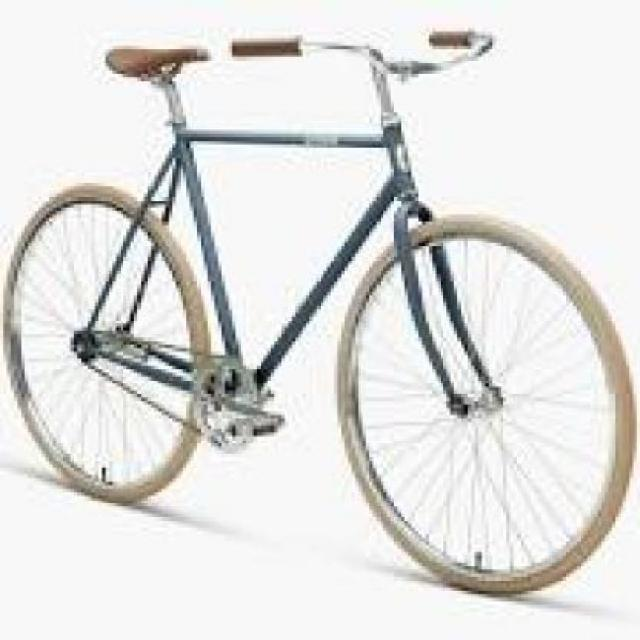bicycle: (2, 24, 640, 599)
